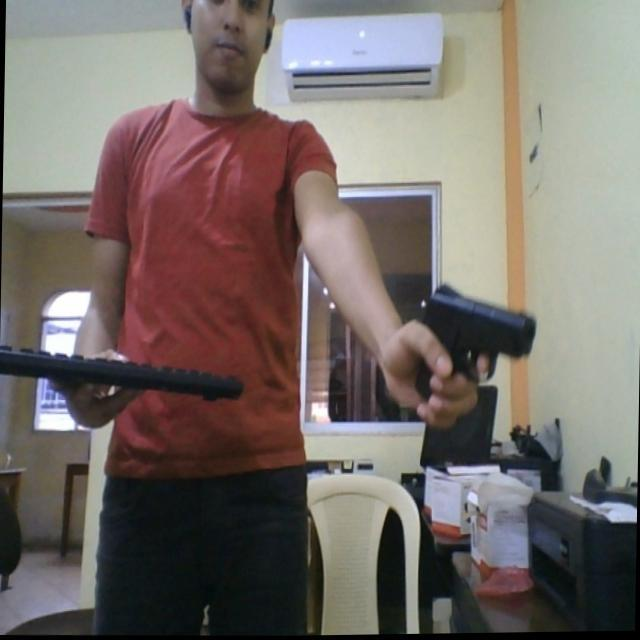weapon: (406, 282, 541, 407)
